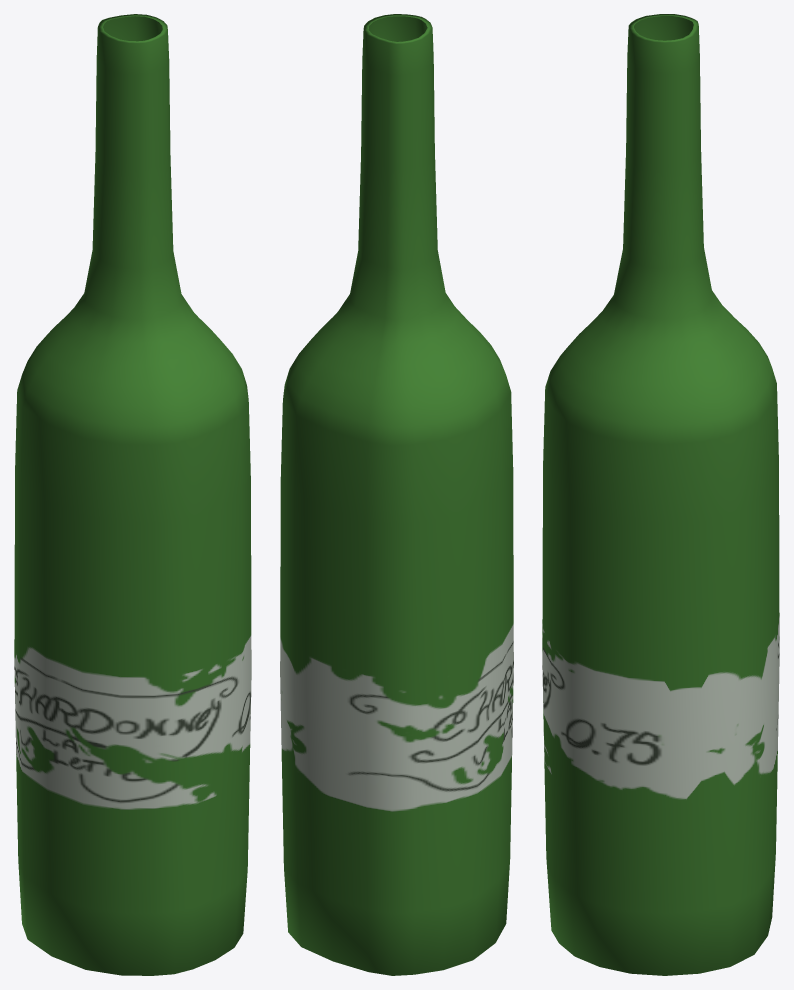
File: Fles.fbx
3 renders of one model, left to right at view 1: azimuth 30°, elevation 25°; view 2: azimuth 150°, elevation 25°; view 3: azimuth 270°, elevation 25°, orthographic.
Parts seen in each view (by area): view 1: pCylinder1; view 2: pCylinder1; view 3: pCylinder1.
Boxes of the visible parts, x1,y1,x2,y2 form: pCylinder1: (14,14,251,975); pCylinder1: (280,14,513,975); pCylinder1: (542,14,779,975).
Size of the model in its own units: 1.95 by 8.38 by 2.
